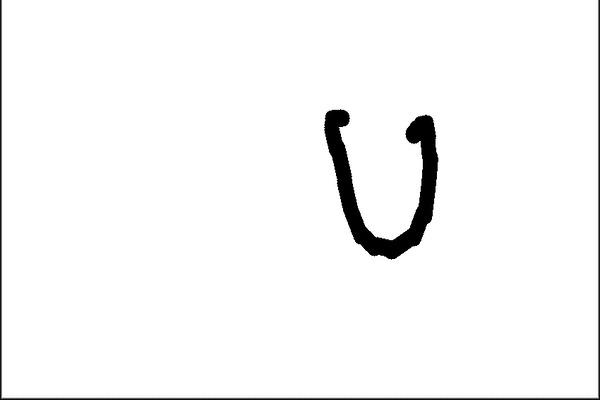U: (302, 86, 450, 272)
